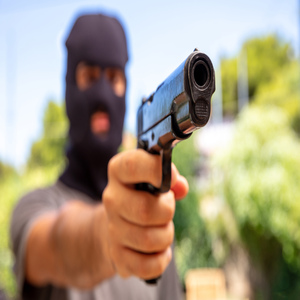pistolw: (132, 41, 219, 201)
